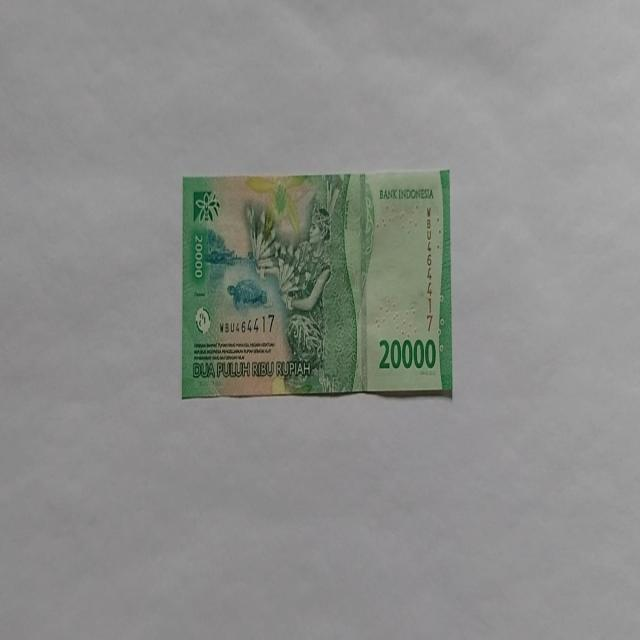dua puluh ribu rupiah: (180, 168, 454, 401), (244, 173, 372, 394)
